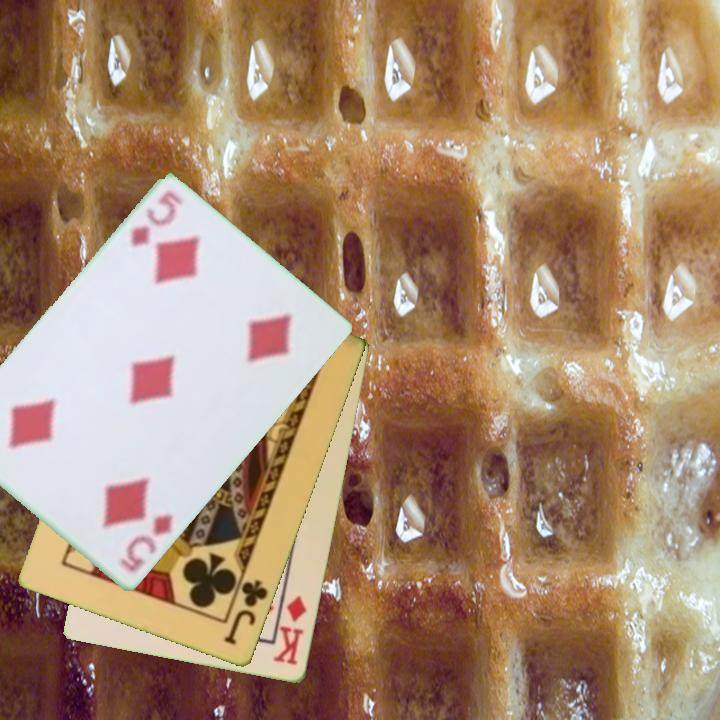5d: (116, 511, 176, 576), (127, 187, 186, 251)
Jc: (220, 577, 272, 648)
Kd: (270, 592, 310, 668)
